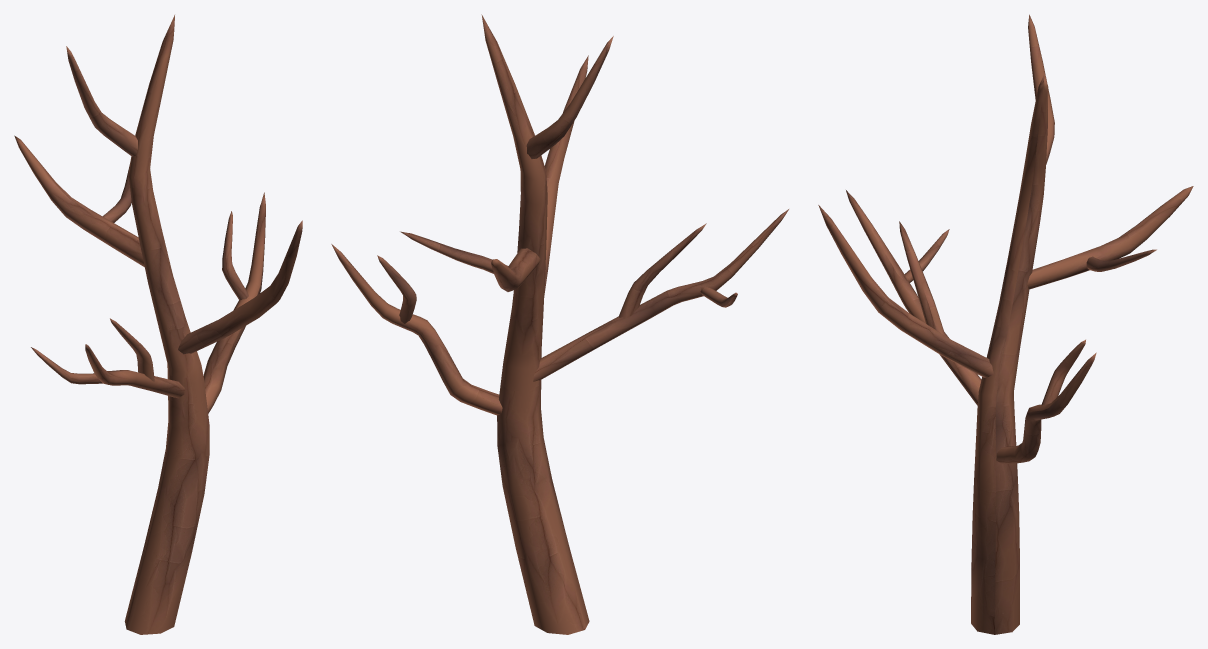
File: DeadTree_5.glb
3 views of the same model, side by side, from view 1: azimuth 30°, elevation 25°; view 2: azimuth 150°, elevation 25°; view 3: azimuth 270°, elevation 25° (orthographic). The views are drawn at different scales.
Visible parts, largest first — view 1: DeadTree_5; view 2: DeadTree_5; view 3: DeadTree_5.
Part boxes in pixels (x1=…): DeadTree_5: x1=14, y1=15, x2=302, y2=634; DeadTree_5: x1=331, y1=14, x2=788, y2=634; DeadTree_5: x1=818, y1=14, x2=1193, y2=634.
Bounding box in the file's own units: 1.44 × 2.6 × 1.53.
Materials: 1 (1 with a texture image).
